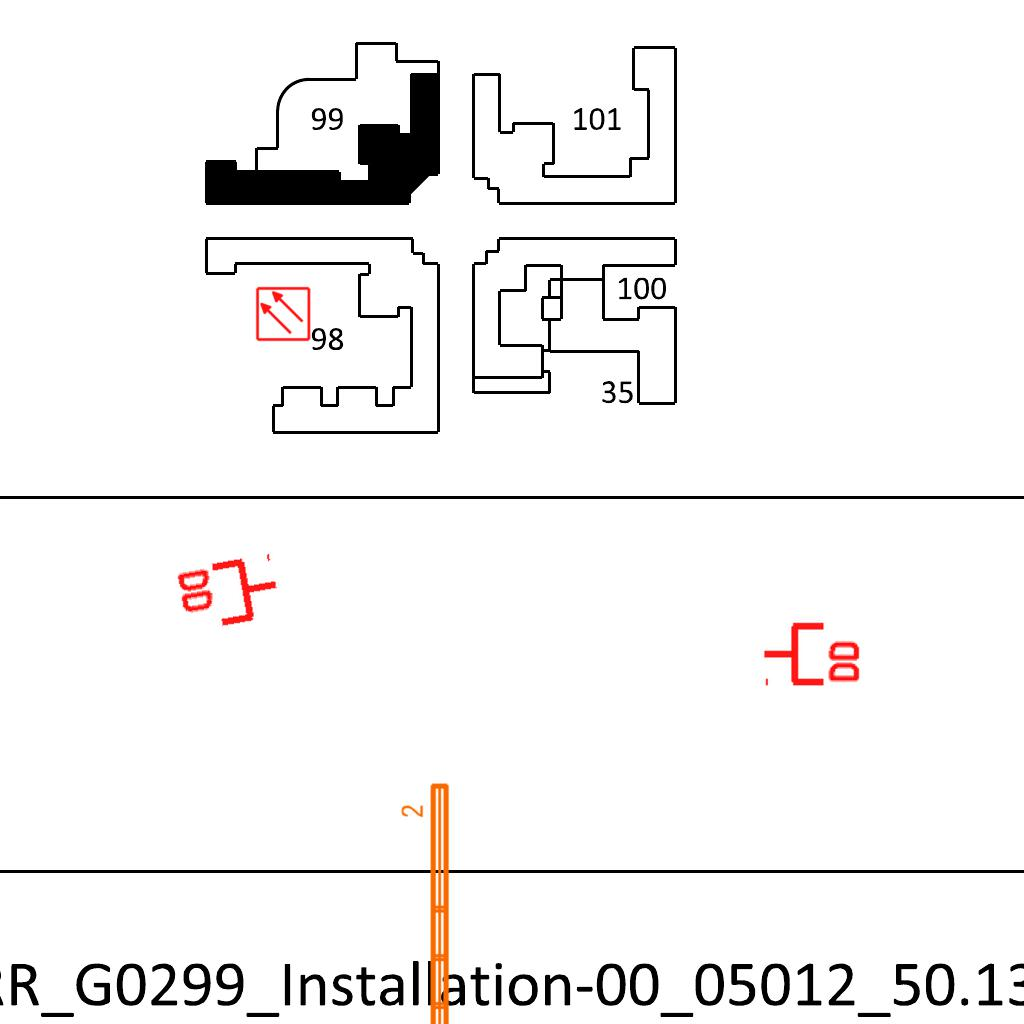Ambulanz_Pendelleuchte_LED: (399, 779, 455, 1024)
Datenanschluss_zweifach: (171, 551, 286, 638), (761, 618, 864, 687)
RMO_Rauchmelder_optischer: (255, 286, 311, 342)
